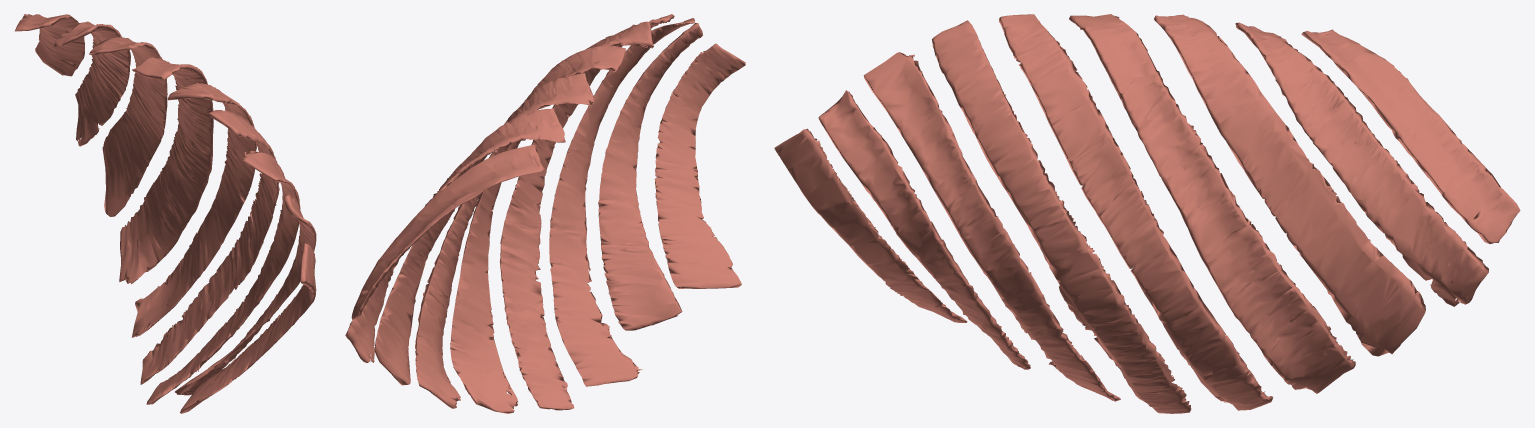
3 renders of one model, left to right at view 1: azimuth 30°, elevation 25°; view 2: azimuth 150°, elevation 25°; view 3: azimuth 270°, elevation 25°, orthographic. The views are drawn at different scales.
Visible parts, largest first — view 1: 左侧肋间最内肌; view 2: 左侧肋间最内肌; view 3: 左侧肋间最内肌.
Boxes of the visible parts, left/top/right/bottom form: 左侧肋间最内肌: left=15, top=14, right=316, bottom=413; 左侧肋间最内肌: left=345, top=14, right=745, bottom=413; 左侧肋间最内肌: left=774, top=14, right=1520, bottom=413.
Size of the model in its own units: 0.135 by 0.276 by 0.4786.
